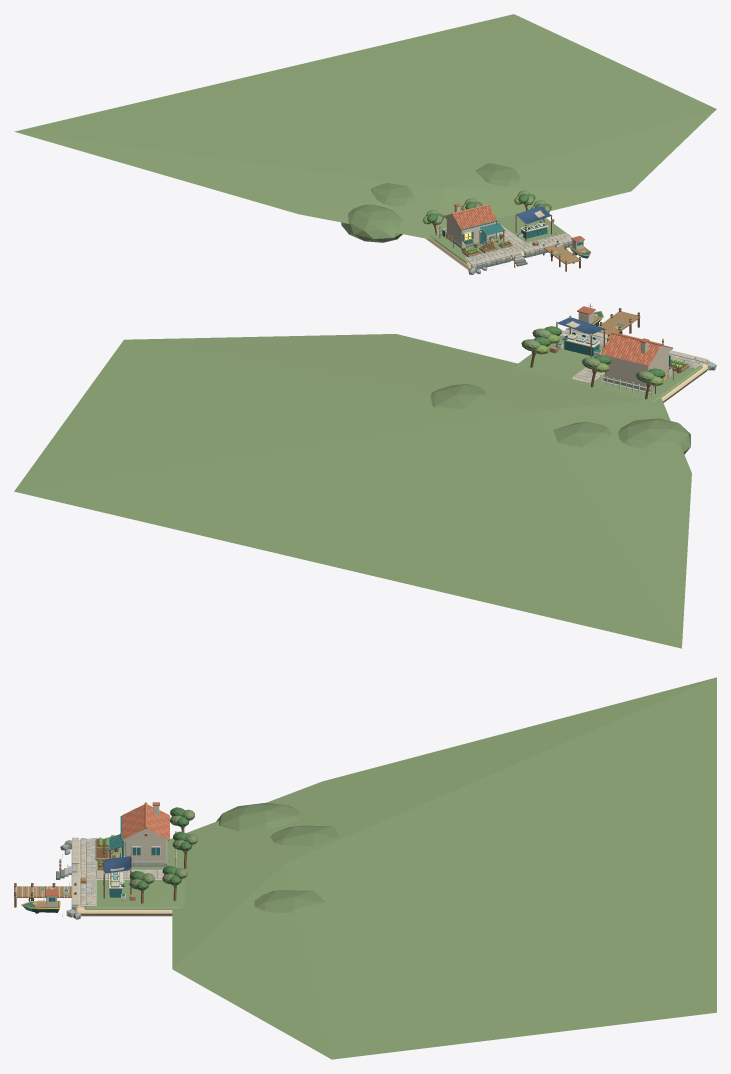
File: coastal-harbor-v3-environment.fbx
3 views of the same model, one above another, from view 1: azimuth 30°, elevation 25°; view 2: azimuth 150°, elevation 25°; view 3: azimuth 270°, elevation 25° (orthographic). The views are drawn at different scales.
Visible parts, largest first — view 1: V3_Backland, V3_BacklandHill, Garden ground, V3_BacklandHill.001, V3_BacklandHill.002, V3_ReusableRoofTiles, House walls; view 2: V3_Backland, Garden ground, V3_BacklandHill, V3_BacklandHill.001, V3_BacklandHill.002, V3_ReusableRoofTiles, House walls; view 3: V3_Backland, Garden ground, V3_BacklandHill, V3_BacklandHill.002, V3_BacklandHill.001, V3_ReusableRoofTiles, Island foundation, House walls.
Part boxes in pixels (x1,y1,x2,y2): V3_Backland: [14, 14, 716, 239]; V3_BacklandHill: [341, 204, 402, 242]; Garden ground: [429, 214, 571, 263]; V3_BacklandHill.001: [371, 182, 414, 206]; V3_BacklandHill.002: [475, 163, 520, 186]; V3_ReusableRoofTiles: [443, 206, 497, 228]; House walls: [446, 219, 494, 245]; V3_Backland: [14, 334, 691, 648]; Garden ground: [514, 331, 702, 402]; V3_BacklandHill: [618, 418, 690, 454]; V3_BacklandHill.001: [553, 422, 611, 447]; V3_BacklandHill.002: [430, 384, 487, 408]; V3_ReusableRoofTiles: [601, 334, 672, 365]; House walls: [605, 352, 668, 387]; V3_Backland: [172, 677, 716, 1059]; Garden ground: [84, 838, 184, 909]; V3_BacklandHill: [216, 802, 300, 830]; V3_BacklandHill.002: [254, 890, 325, 913]; V3_BacklandHill.001: [270, 825, 338, 846]; V3_ReusableRoofTiles: [122, 804, 169, 839]; Island foundation: [74, 840, 172, 916]; House walls: [125, 840, 166, 862].
Size of what is drawn, in the model's own units: 9300 by 805 by 7486.
